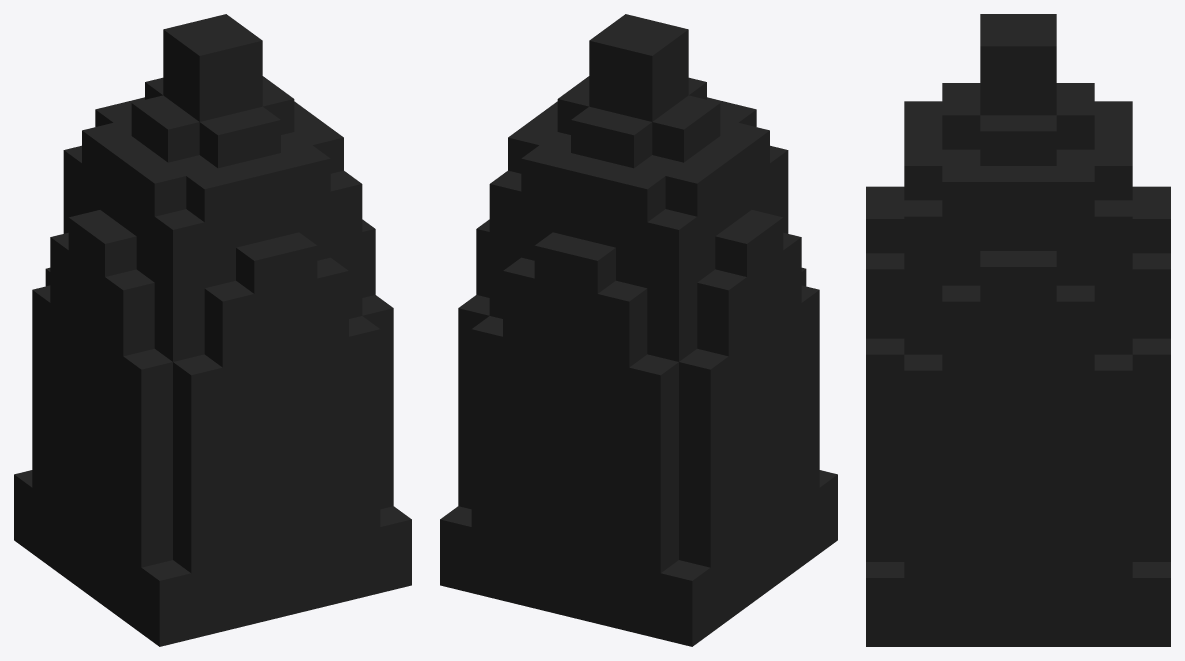
Rendered from monster-4.obj.
3 views of the same model, side by side, from view 1: azimuth 30°, elevation 25°; view 2: azimuth 150°, elevation 25°; view 3: azimuth 270°, elevation 25° (orthographic). The views are drawn at different scales.
Bounding box in the file's own units: 0.8 × 1.6 × 0.8.
1 material, 1 textured.
